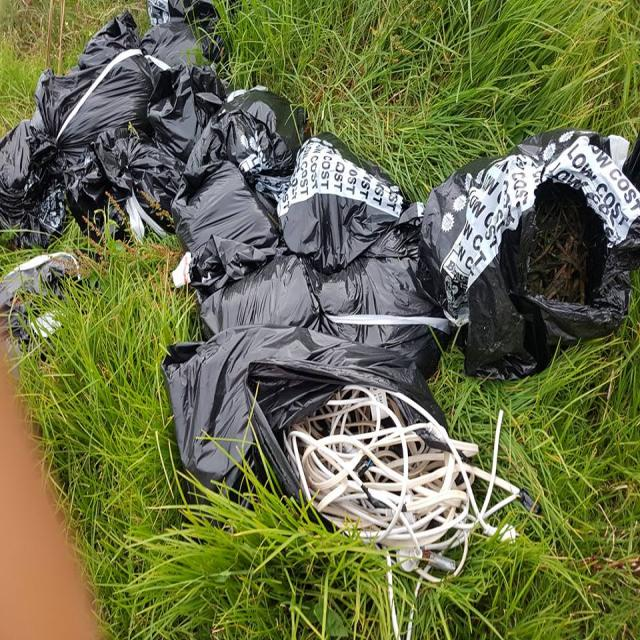dumping: (1, 2, 640, 593)
